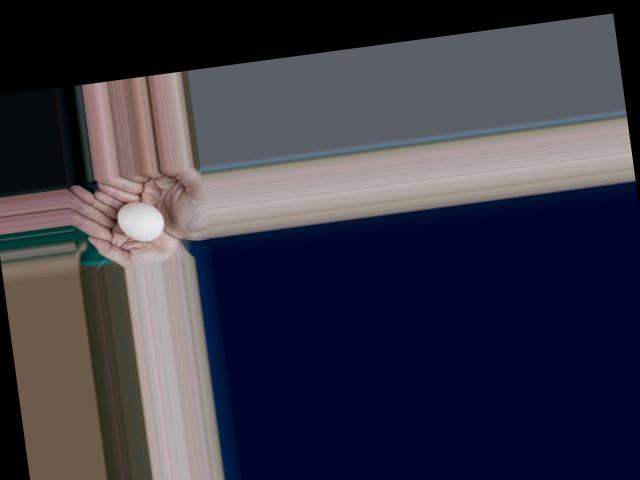egg: (115, 199, 165, 243)
